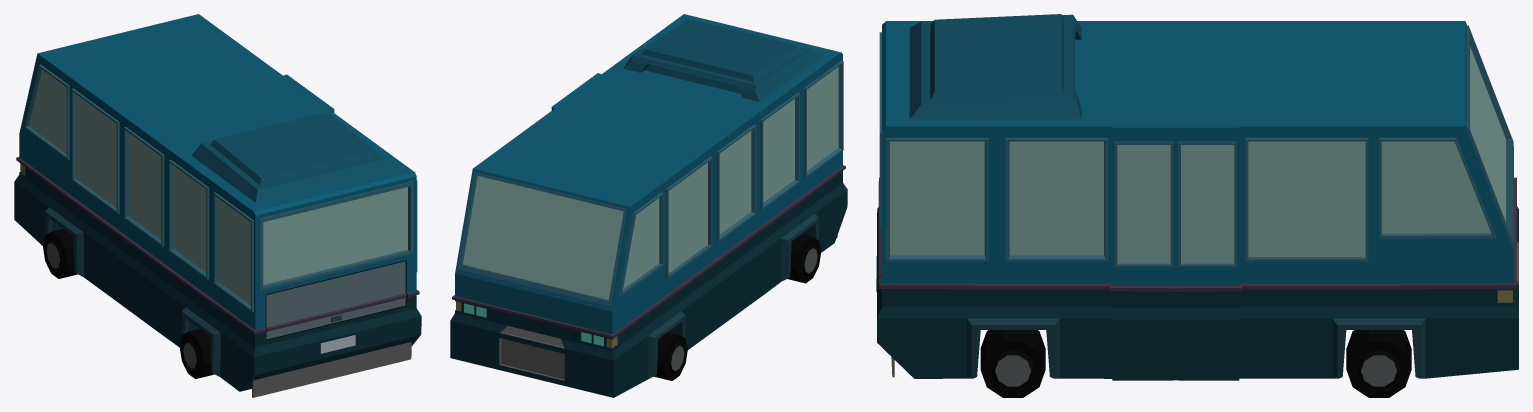
Rendered from minibus.glb.
3 renders of one model, left to right at view 1: azimuth 30°, elevation 25°; view 2: azimuth 150°, elevation 25°; view 3: azimuth 270°, elevation 25°, orthographic. The views are drawn at different scales.
Visible parts, largest first — view 1: Object_3; view 2: Object_3; view 3: Object_3.
Boxes of the visible parts, box(x1,y1,x2,y2) form: Object_3: box(14, 14, 421, 397); Object_3: box(450, 14, 847, 397); Object_3: box(876, 14, 1518, 397).
Size of the model in its own units: 2.62 by 2.76 by 5.61.
1 material, 1 textured.
